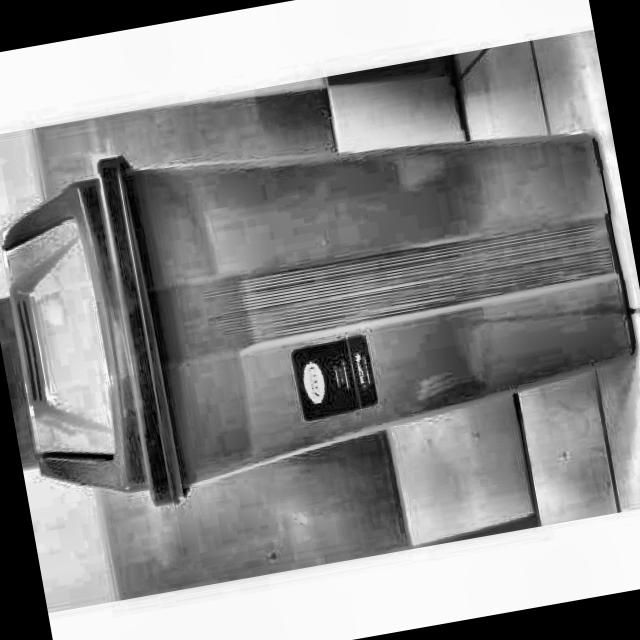Dustbin: (0, 64, 640, 537)
